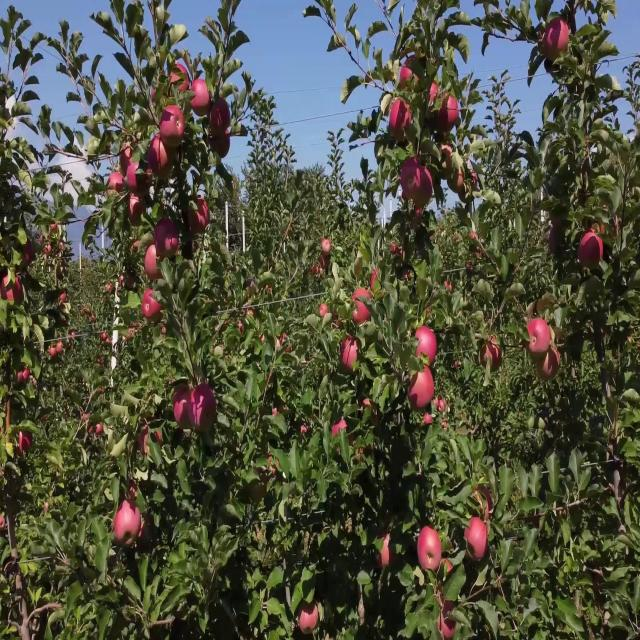apple: (192, 383, 217, 432), (408, 369, 436, 411), (420, 526, 443, 574), (160, 106, 185, 148), (116, 504, 141, 546), (464, 519, 488, 562), (404, 163, 428, 206), (156, 220, 181, 260), (528, 319, 552, 357), (580, 234, 604, 272), (400, 156, 420, 201), (148, 135, 170, 174), (188, 199, 211, 236), (536, 348, 560, 382), (128, 163, 152, 197), (436, 99, 460, 133), (416, 327, 438, 364), (392, 99, 412, 139), (472, 483, 494, 519), (548, 21, 571, 55), (400, 49, 421, 85), (192, 78, 211, 116), (352, 291, 372, 327), (168, 63, 191, 94), (140, 426, 163, 457), (416, 170, 434, 208), (212, 99, 232, 133), (440, 92, 460, 126), (176, 391, 193, 430), (440, 604, 458, 639), (144, 248, 163, 281), (300, 604, 320, 633), (128, 163, 148, 192), (436, 106, 453, 140), (380, 533, 396, 569), (144, 291, 163, 320), (136, 163, 152, 197), (400, 63, 419, 91), (360, 398, 379, 425), (440, 142, 454, 178), (420, 170, 434, 206), (212, 135, 232, 160), (484, 341, 501, 370), (344, 341, 359, 372), (108, 170, 125, 196), (120, 142, 135, 171), (392, 241, 408, 267), (448, 170, 465, 194), (544, 30, 556, 62), (132, 199, 146, 226), (332, 419, 348, 441), (540, 28, 551, 60), (276, 334, 292, 356), (12, 277, 24, 306), (428, 85, 442, 108), (548, 227, 558, 256), (24, 241, 36, 265), (40, 234, 53, 256), (268, 455, 280, 478), (412, 206, 424, 228), (0, 277, 11, 299), (20, 433, 32, 453), (128, 483, 140, 503), (16, 369, 32, 384), (468, 170, 480, 190), (440, 561, 453, 576), (372, 270, 380, 292), (548, 234, 556, 256), (320, 255, 331, 270), (472, 170, 480, 190), (320, 305, 329, 320), (324, 241, 332, 254), (96, 426, 104, 437)
